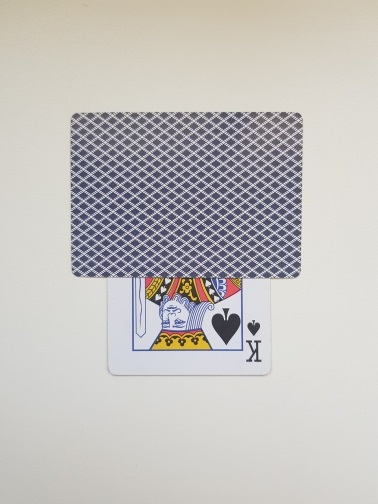king: (105, 141, 273, 377)
